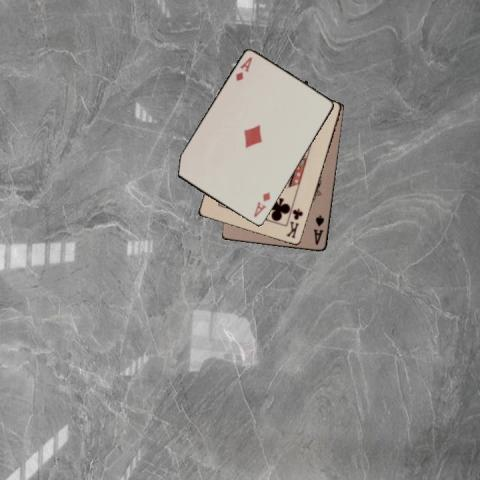Ad: (251, 190, 272, 220), (233, 54, 253, 83)
As: (311, 212, 326, 247)
Kc: (283, 206, 305, 240)
